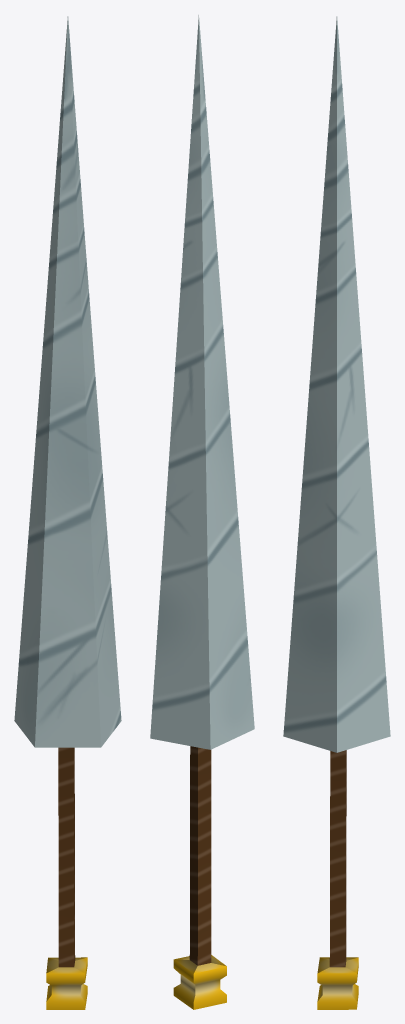
File: lance.fbx
The picture shows the model from 3 angles, left to right: view 1: azimuth 90°, elevation 25°; view 2: azimuth 210°, elevation 25°; view 3: azimuth 270°, elevation 25°; orthographic projection.
Visible parts, largest first — view 1: pCone2; view 2: pCone2; view 3: pCone2.
Part boxes in pixels (box(x1,y1,x2,y2)): pCone2: box(14, 16, 121, 1009); pCone2: box(150, 15, 254, 1009); pCone2: box(283, 16, 390, 1009).
Bounding box in the file's own units: 0.2204 × 2.36 × 0.2317.
Materials: 1 (1 with a texture image).
